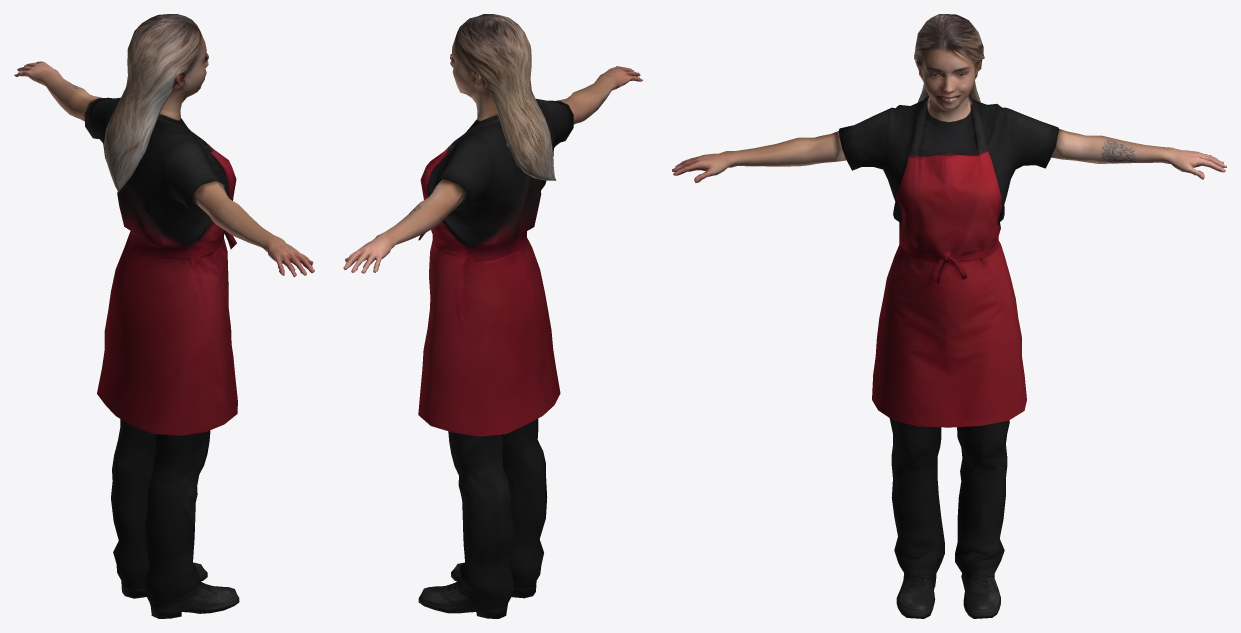
File: attendant_detailed_unrigged.glb
The picture shows the model from 3 angles, left to right: view 1: azimuth 30°, elevation 25°; view 2: azimuth 150°, elevation 25°; view 3: azimuth 270°, elevation 25°; orthographic projection.
Parts seen in each view (by area): view 1: tripo_node_8b7b5b78-e0ab-46e8-9b2c-be1b4f6f9d83; view 2: tripo_node_8b7b5b78-e0ab-46e8-9b2c-be1b4f6f9d83; view 3: tripo_node_8b7b5b78-e0ab-46e8-9b2c-be1b4f6f9d83.
Boxes of the visible parts, x1=… form: tripo_node_8b7b5b78-e0ab-46e8-9b2c-be1b4f6f9d83: x1=14, y1=14, x2=314, y2=618; tripo_node_8b7b5b78-e0ab-46e8-9b2c-be1b4f6f9d83: x1=343, y1=14, x2=642, y2=618; tripo_node_8b7b5b78-e0ab-46e8-9b2c-be1b4f6f9d83: x1=672, y1=14, x2=1226, y2=618.
Bounding box in the file's own units: 0.2207 × 0.998 × 0.873.
1 material, 1 textured.
